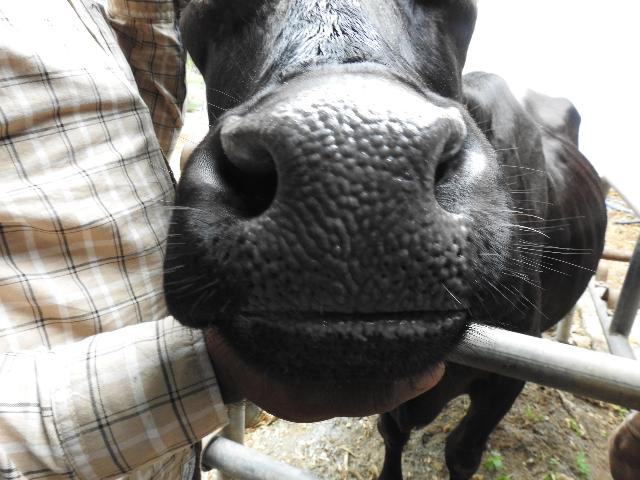Muzzle: (251, 107, 454, 300)
